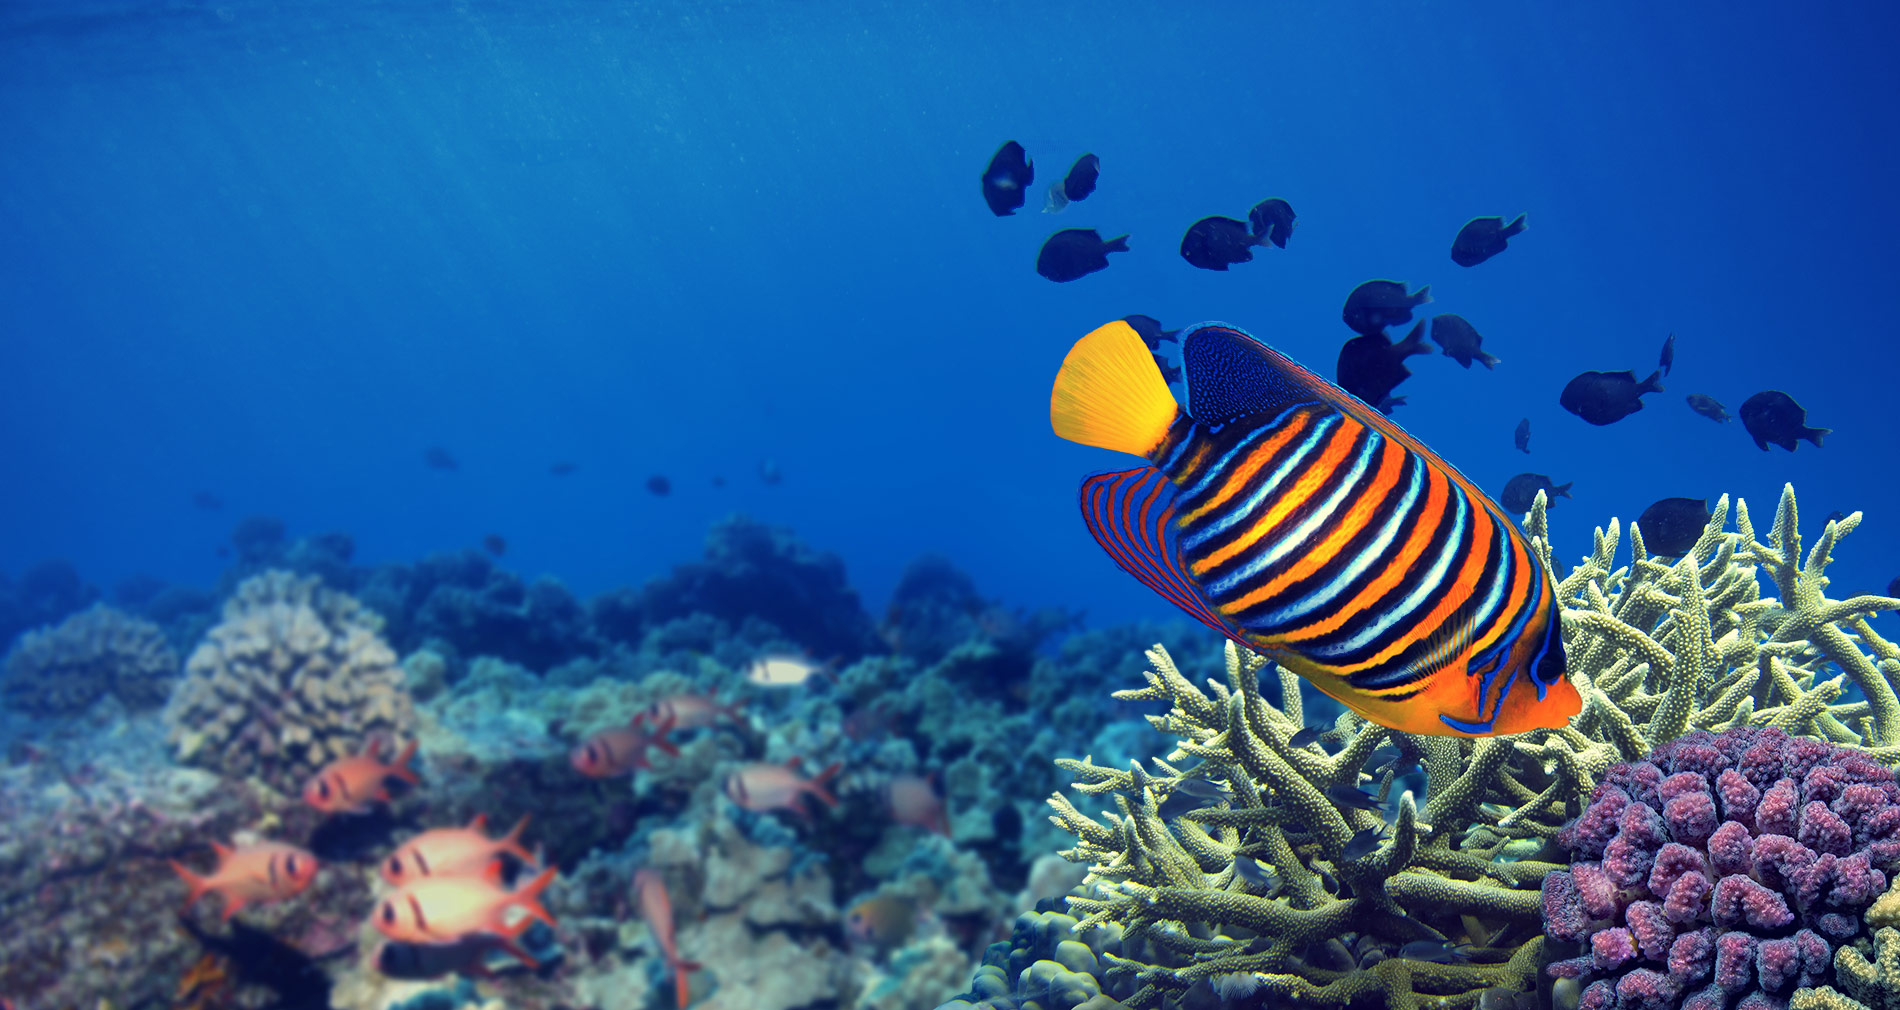fish: (1024, 271, 1617, 778)
